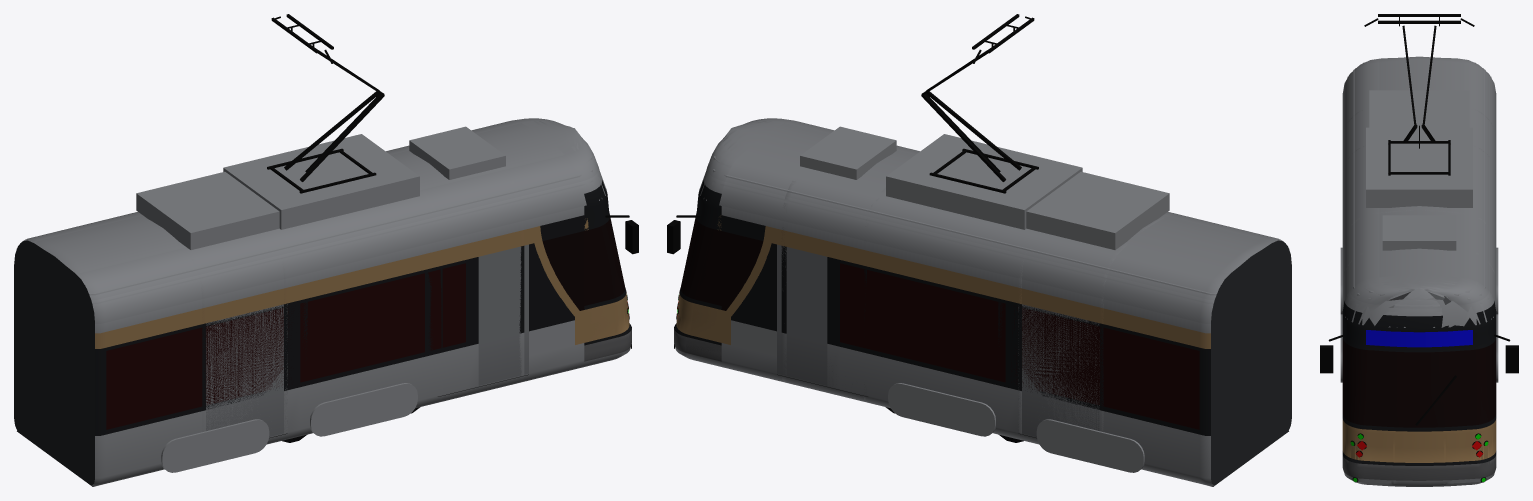
The picture shows the model from 3 angles, left to right: view 1: azimuth 30°, elevation 25°; view 2: azimuth 150°, elevation 25°; view 3: azimuth 270°, elevation 25°; orthographic projection. The views are drawn at different scales.
Visible parts, largest first — view 1: Cab_mid, Cab_far, Cab, Susp_far, Susp_mid, Centre_mid, Susp, Centre_far, Panto, Centre; view 2: Cab_mid, Cab_far, Cab, Centre_mid, Susp_far, Susp_mid, Susp, Centre_far, Panto, Centre; view 3: Cab, Cab_mid, Centre_mid, Cab_far, Centre_far, Susp, Panto, Susp_mid, Centre, Susp_far.
Part boxes in pixels (x1=…): Cab_mid: x1=14, y1=119, x2=638, y2=486; Cab_far: x1=14, y1=121, x2=638, y2=429; Cab: x1=14, y1=118, x2=632, y2=367; Susp_far: x1=199, y1=190, x2=518, y2=436; Susp_mid: x1=129, y1=145, x2=524, y2=439; Centre_mid: x1=227, y1=136, x2=442, y2=436; Susp: x1=131, y1=146, x2=524, y2=298; Centre_far: x1=223, y1=134, x2=436, y2=385; Panto: x1=267, y1=14, x2=384, y2=193; Centre: x1=271, y1=190, x2=442, y2=278; Cab_mid: x1=667, y1=119, x2=1291, y2=486; Cab_far: x1=667, y1=121, x2=1286, y2=429; Cab: x1=674, y1=118, x2=1291, y2=364; Centre_mid: x1=863, y1=136, x2=1078, y2=436; Susp_far: x1=786, y1=191, x2=1109, y2=436; Susp_mid: x1=781, y1=145, x2=1176, y2=438; Susp: x1=783, y1=146, x2=1174, y2=298; Centre_far: x1=867, y1=134, x2=1082, y2=384; Panto: x1=921, y1=14, x2=1038, y2=193; Centre: x1=865, y1=190, x2=1037, y2=278; Cab: x1=1320, y1=58, x2=1518, y2=486; Cab_mid: x1=1320, y1=56, x2=1518, y2=486; Centre_mid: x1=1340, y1=127, x2=1498, y2=382; Cab_far: x1=1320, y1=68, x2=1518, y2=486; Centre_far: x1=1353, y1=127, x2=1485, y2=223; Susp: x1=1342, y1=108, x2=1496, y2=274; Panto: x1=1364, y1=14, x2=1474, y2=175; Susp_mid: x1=1347, y1=110, x2=1491, y2=267; Centre: x1=1342, y1=146, x2=1496, y2=244; Susp_far: x1=1353, y1=115, x2=1485, y2=237.
Size of the model in its own units: 8.72 by 5.75 by 2.98.
